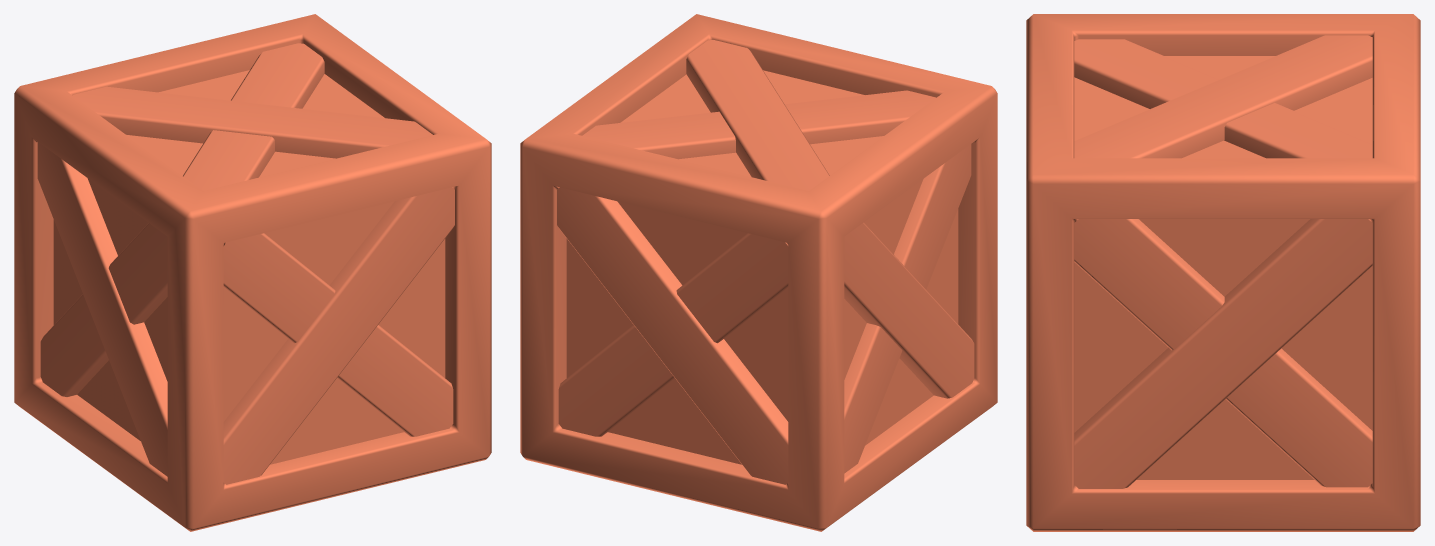
File: City_4_Box_1.glb
3 views of the same model, side by side, from view 1: azimuth 30°, elevation 25°; view 2: azimuth 150°, elevation 25°; view 3: azimuth 270°, elevation 25° (orthographic). The views are drawn at different scales.
Parts seen in each view (by area): view 1: City_4_Box_1; view 2: City_4_Box_1; view 3: City_4_Box_1.
Part boxes in pixels (x1,y1,x2,y2): City_4_Box_1: (14, 14, 491, 531); City_4_Box_1: (520, 14, 997, 531); City_4_Box_1: (1026, 14, 1420, 531).
Bounding box in the file's own units: 0.941 × 0.941 × 0.941.
1 material, 1 textured.
